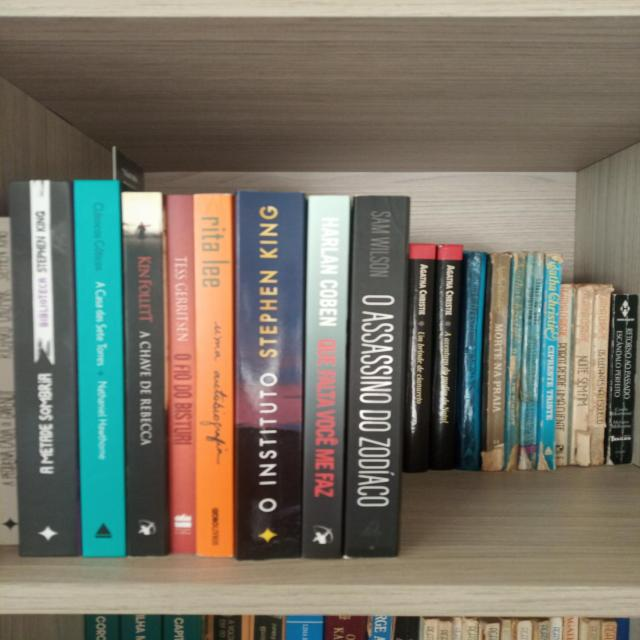book: (240, 202, 298, 554), (18, 182, 66, 555), (77, 182, 122, 557), (349, 202, 395, 555), (126, 203, 168, 555), (198, 202, 230, 555), (308, 203, 339, 554), (170, 206, 191, 552), (408, 242, 431, 470), (0, 221, 15, 549), (441, 245, 460, 469), (516, 257, 532, 474), (543, 259, 559, 469), (615, 293, 632, 464), (467, 249, 480, 469), (492, 252, 505, 471), (574, 283, 588, 465), (594, 288, 607, 465), (510, 250, 520, 470), (556, 282, 566, 466)
